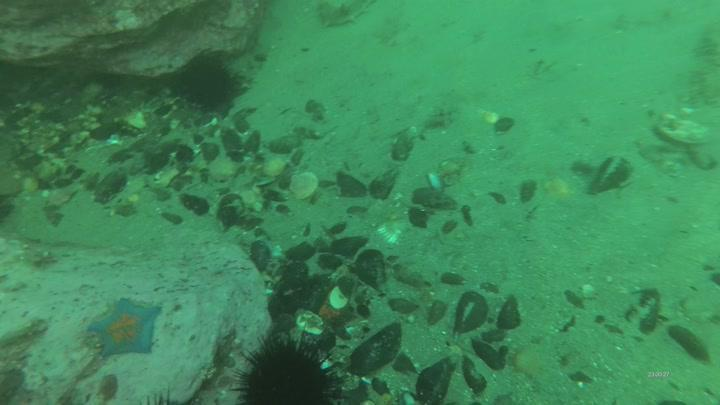urchin: (229, 335, 333, 405), (177, 56, 245, 109)
